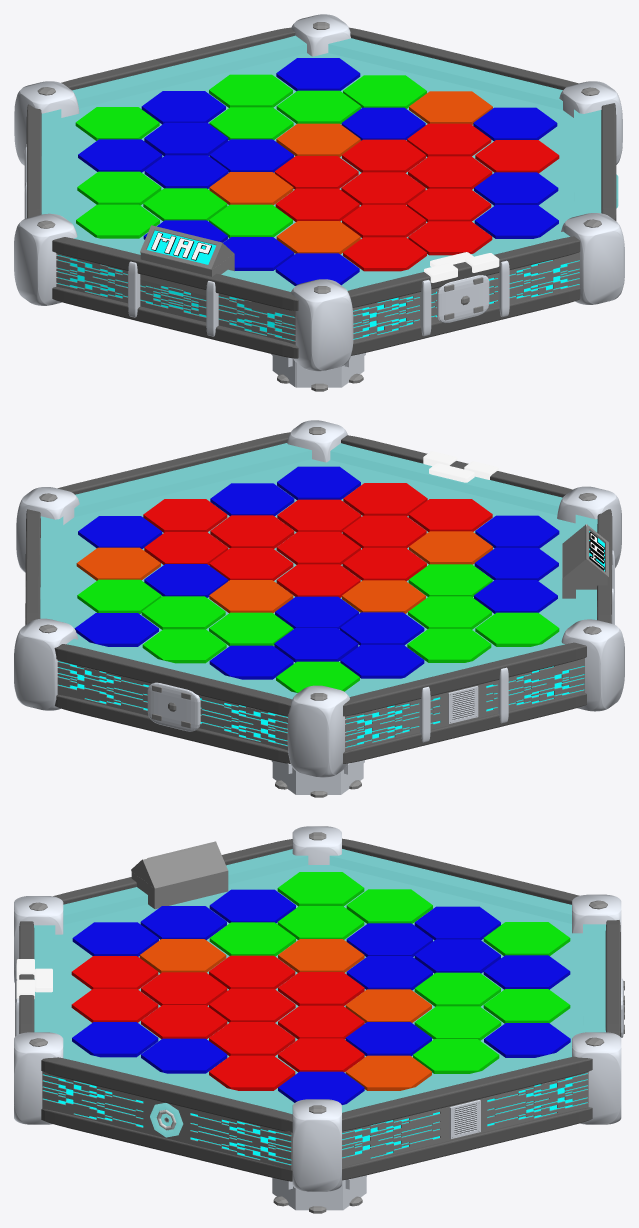
Rendered from Holomap 3.0 .glb.
3 views of the same model, one above another, from view 1: azimuth 30°, elevation 25°; view 2: azimuth 150°, elevation 25°; view 3: azimuth 270°, elevation 25° (orthographic). The views are drawn at different scales.
Visible parts, largest first — view 1: Cylinder.002, Cube.033, Cube.028, Cube.005, Cube.019, Cube.001, Cube.004, Cube.020, Cube.011, Cube.012, Cube.015, Cube.013 (+50 smaller); view 2: Cylinder.002, Cube.031, Cube.029, Cube.003, Cube.017, Cube.015, Cube.002, Cube.004, Cube.018, Cube.016, Cube.009, Cylinder.031 (+50 smaller); view 3: Cylinder.002, Cube.032, Cube.030, Cube.009, Cube.013, Cube, Cube.014, Cube.010, Cube.002, Cube.001, Cube.017, Cylinder (+47 smaller).
Part boxes in pixels (left/top/right/bottom): Cylinder.002: left=41, top=35, right=601, bottom=291; Cube.033: left=56, top=253, right=295, bottom=344; Cube.028: left=352, top=252, right=579, bottom=342; Cube.005: left=291, top=279, right=353, bottom=371; Cube.019: left=52, top=237, right=298, bottom=310; Cube.001: left=561, top=213, right=624, bottom=304; Cube.004: left=14, top=213, right=77, bottom=305; Cube.020: left=52, top=286, right=298, bottom=358; Cube.011: left=347, top=236, right=580, bottom=307; Cube.012: left=351, top=288, right=580, bottom=355; Cube.015: left=61, top=27, right=295, bottom=90; Cube.013: left=349, top=27, right=578, bottom=89; Cylinder.002: left=40, top=443, right=597, bottom=699; Cube.031: left=345, top=658, right=584, bottom=751; Cube.029: left=57, top=660, right=288, bottom=750; Cube.003: left=287, top=685, right=349, bottom=777; Cube.017: left=343, top=642, right=586, bottom=716; Cube.015: left=54, top=644, right=292, bottom=715; Cube.002: left=14, top=618, right=78, bottom=710; Cube.004: left=561, top=619, right=624, bottom=711; Cube.018: left=343, top=693, right=586, bottom=763; Cube.016: left=55, top=694, right=290, bottom=763; Cube.009: left=57, top=432, right=290, bottom=494; Cylinder.031: left=407, top=628, right=491, bottom=662; Cylinder.002: left=34, top=849, right=605, bottom=1114; Cube.032: left=42, top=1071, right=292, bottom=1170; Cube.030: left=342, top=1071, right=588, bottom=1167; Cube.009: left=41, top=1057, right=292, bottom=1132; Cube.013: left=342, top=1056, right=592, bottom=1131; Cube: left=292, top=1099, right=341, bottom=1191; Cube.014: left=342, top=1107, right=592, bottom=1180; Cube.010: left=41, top=1109, right=292, bottom=1181; Cube.002: left=572, top=1032, right=621, bottom=1124; Cube.001: left=14, top=1032, right=63, bottom=1124; Cube.017: left=342, top=838, right=579, bottom=904; Cylinder: left=131, top=841, right=227, bottom=888.
Bounding box in the file's own units: 9.64 × 3.74 × 8.47.
